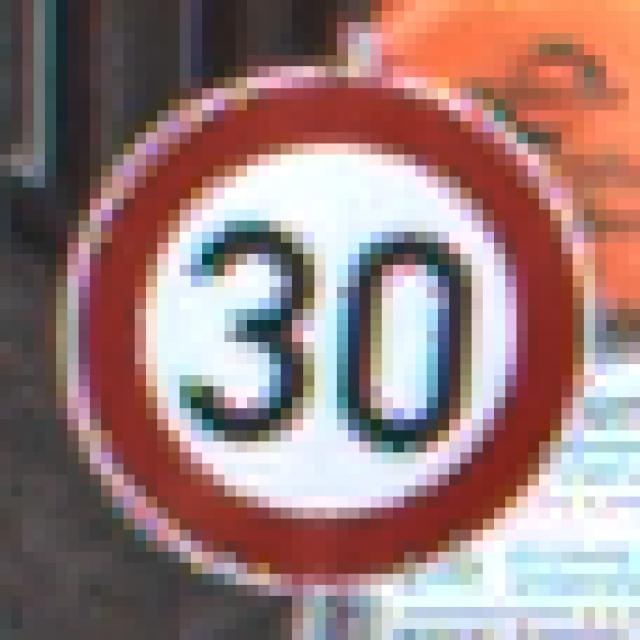Speed Limit -30-: (51, 55, 567, 563)
